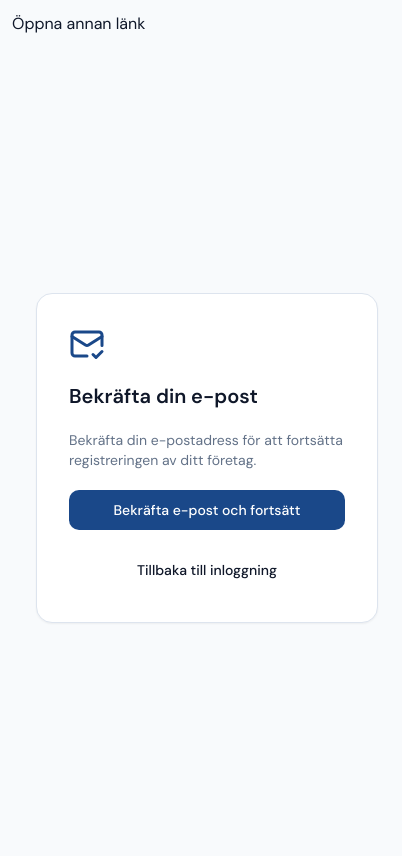
Test: auth email confirmation › recovers from a network rejection without concurrent verification requests
The image size is (402, 856).
Later steps or results of the test are not shown.
Click the button "Bekräfta e-post och fortsätt": (207, 510) [69, 490, 345, 530]
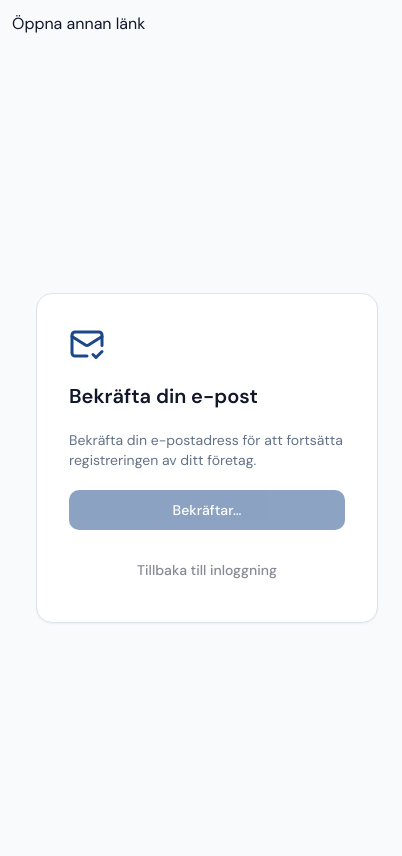
Click the button named "Bekräfta e-post och fortsätt": (207, 510) [69, 490, 345, 530]
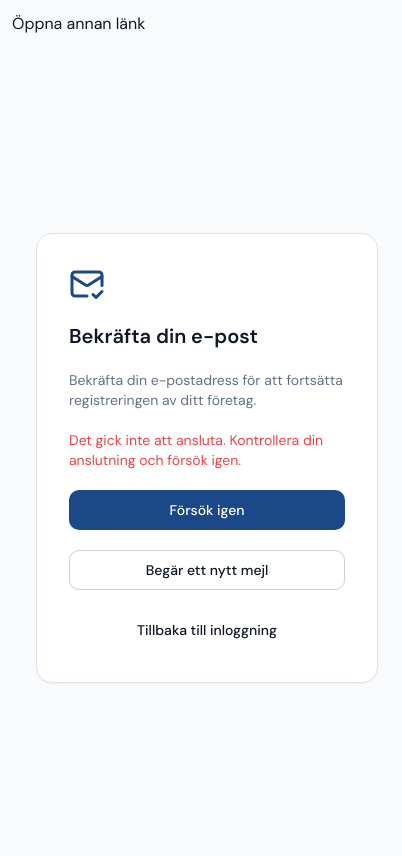
Expected: the message does not show "TOKEN_HASH_0123456789", [69, 430, 345, 470]
Result: the message shows "Det gick inte att ansluta" at [69, 431, 323, 469]
